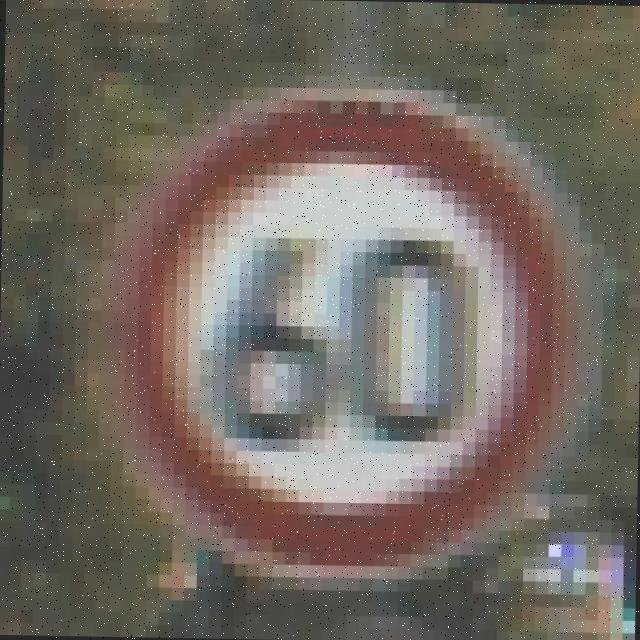Ograniczenie predkosci do 60: (49, 49, 630, 613)
